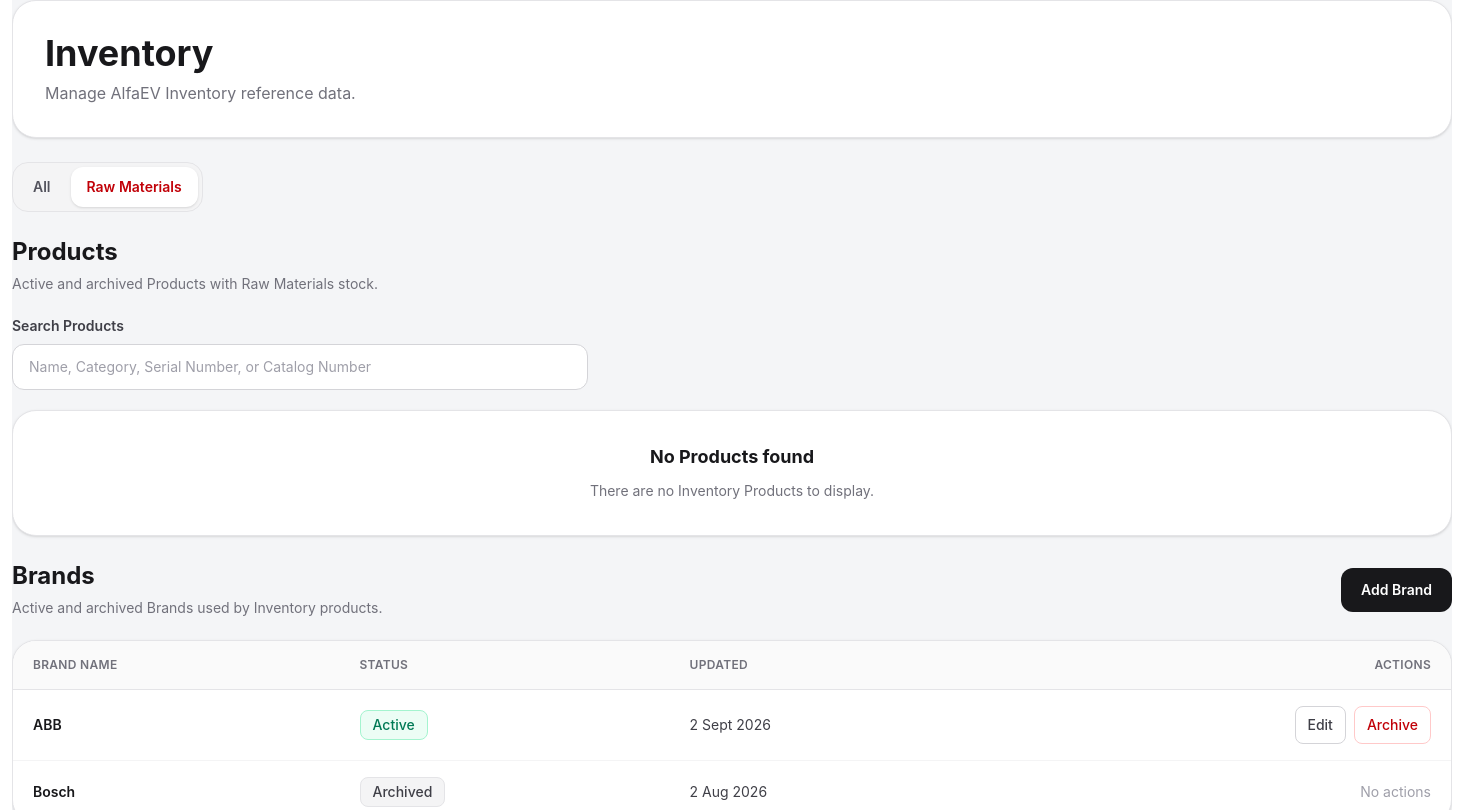
Test: InventoryPage › debounces server-backed Product search and distinguishes no matches from an empty Inventory
Expected: the heading "No Products found" is shown, x1=650 y1=446 x2=814 y2=467
Step 1. Type "  res" into the search field labelled "Search Products" → (300, 367), box x1=12 y1=344 x2=588 y2=390
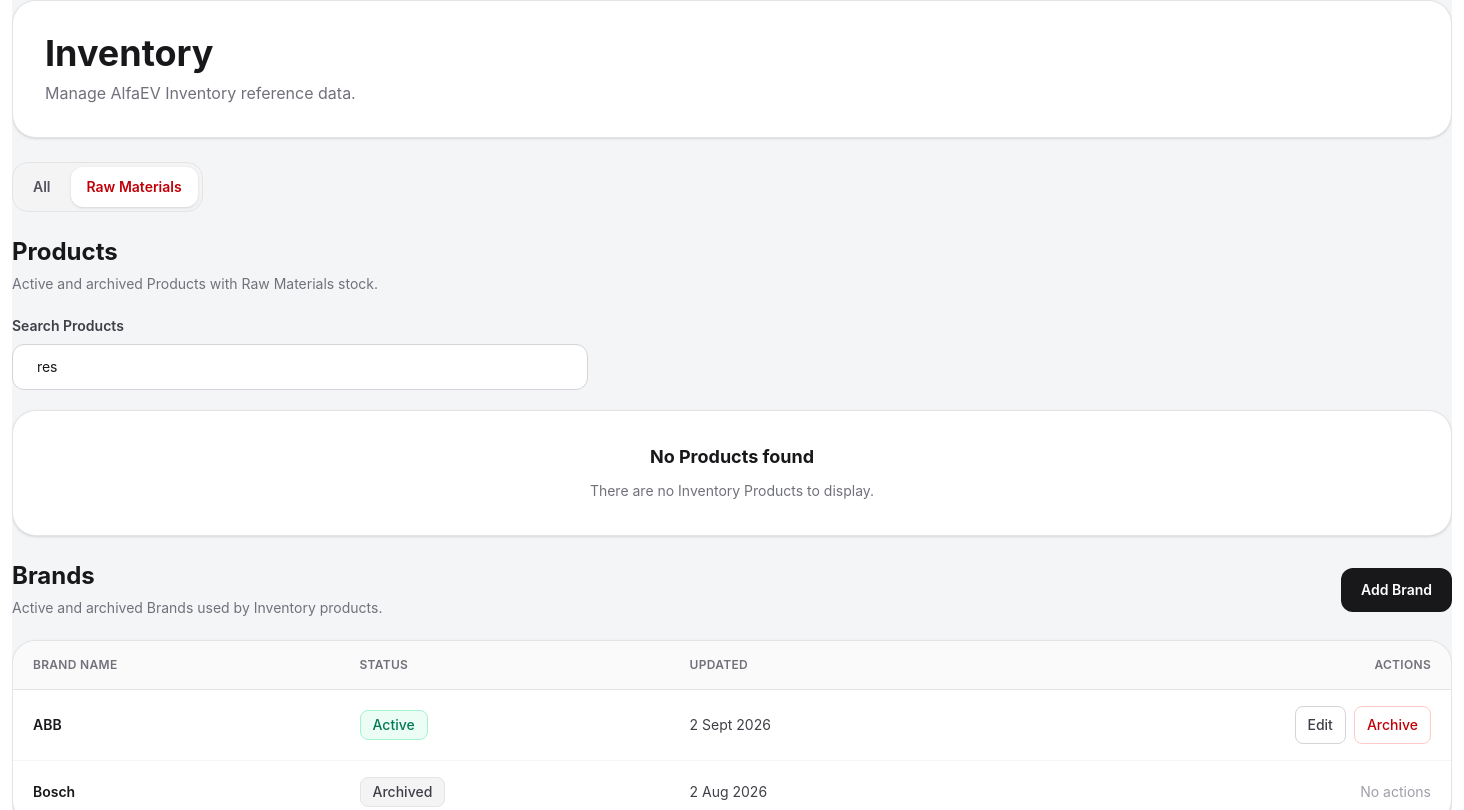
Step 2. Replace the text in the search field labelled "Search Products" with "  resistor  " → (300, 367), box x1=12 y1=344 x2=588 y2=390
Wait 300 ms
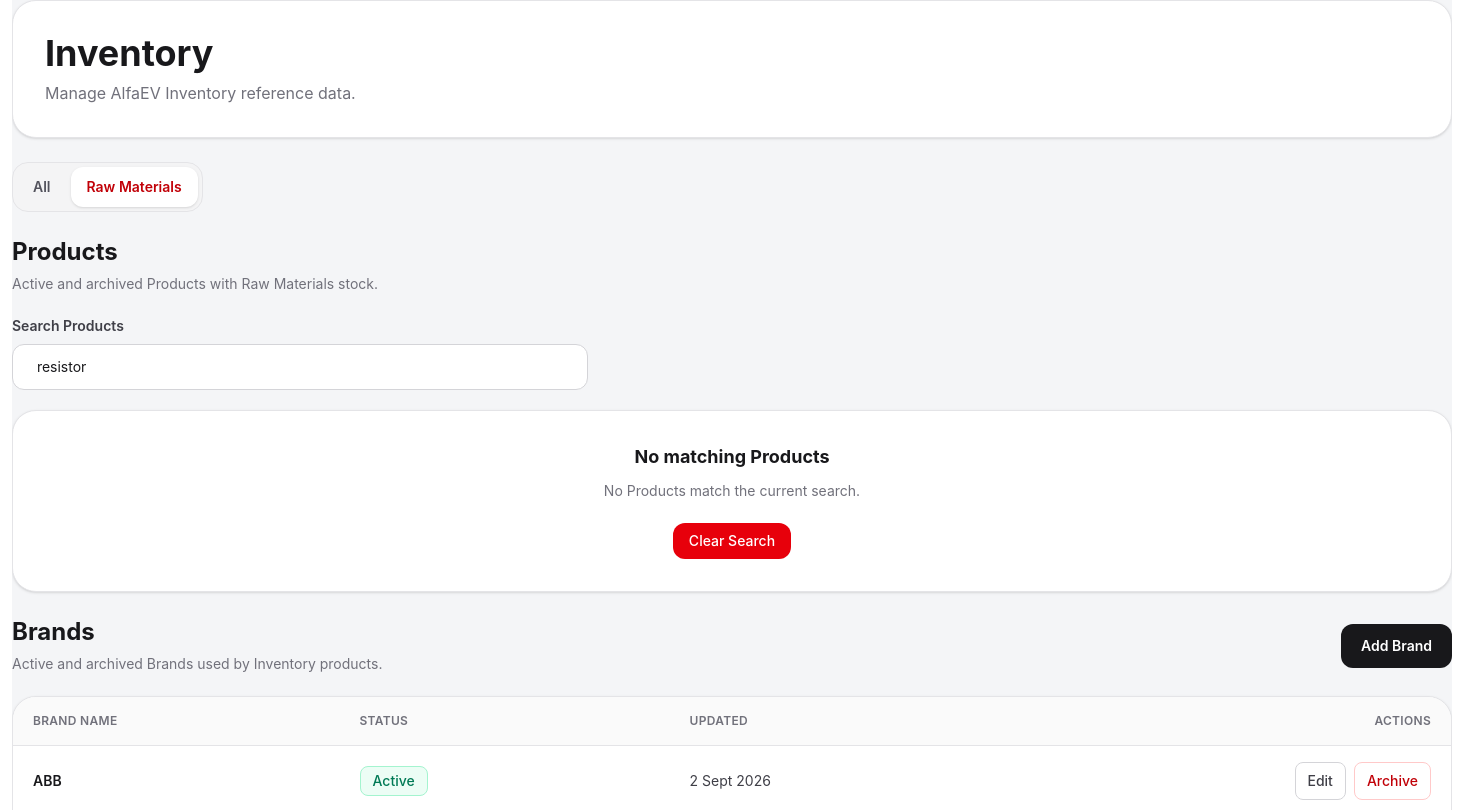
Now the heading "No matching Products" is shown, box x1=634 y1=446 x2=830 y2=467
Step 3. Click the button "Clear Search" → (732, 541), box x1=673 y1=523 x2=791 y2=559
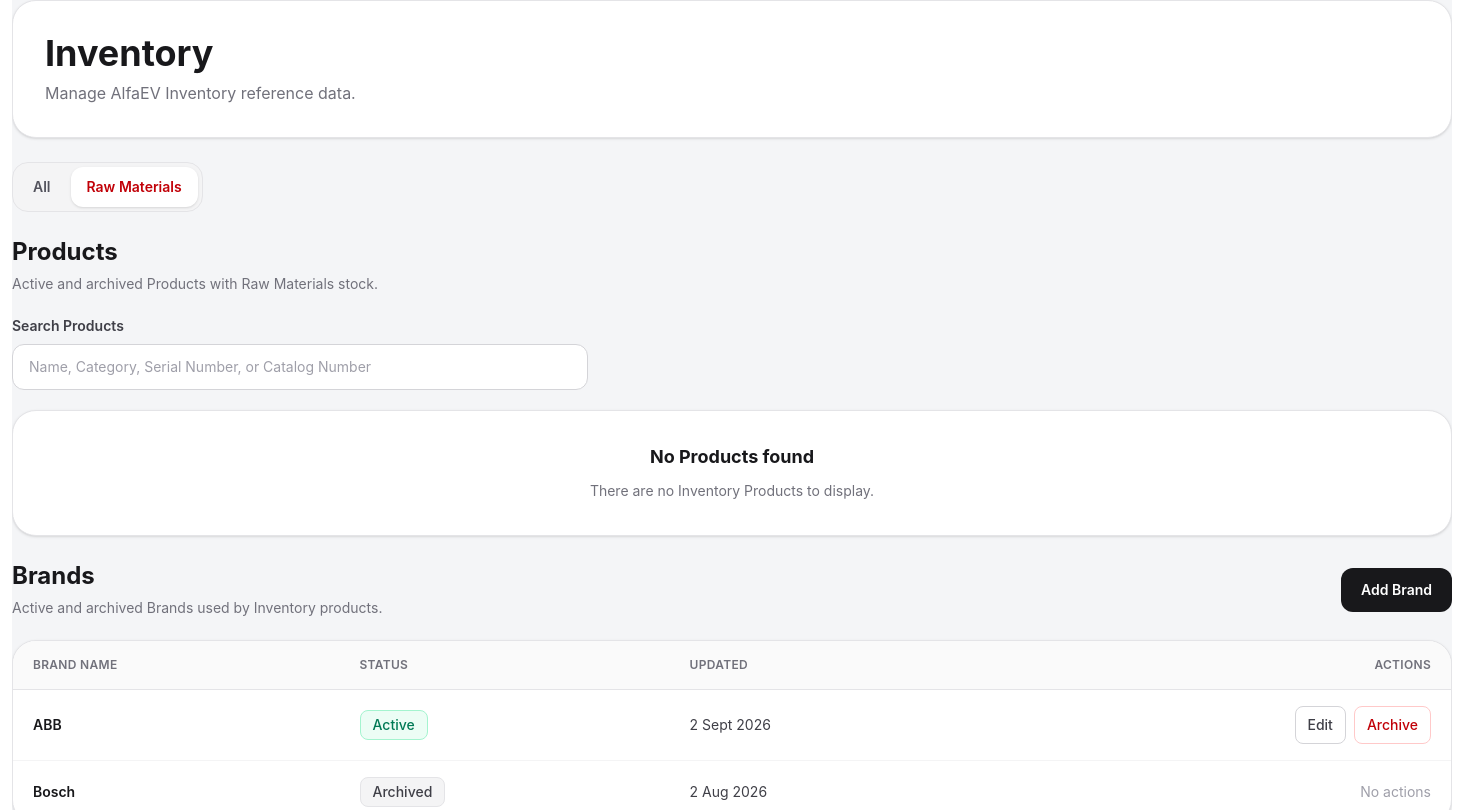
Now the search field labelled "Search Products" is empty, box x1=12 y1=344 x2=588 y2=390
Now the heading "No Products found" is shown, box x1=650 y1=446 x2=814 y2=467
